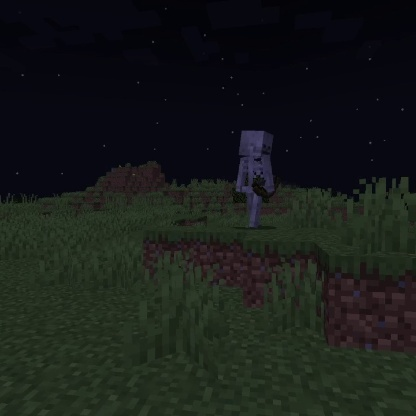skeleton: (232, 127, 283, 230)
